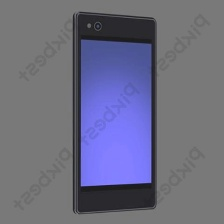phone: (69, 8, 160, 216)
